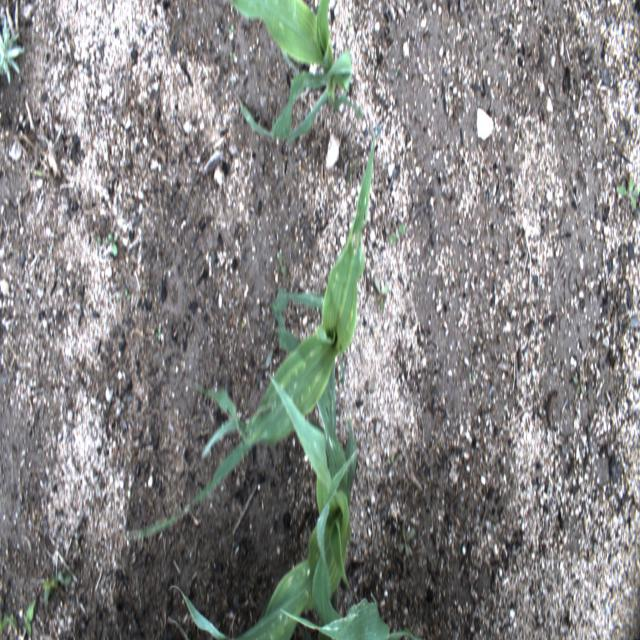crop: (129, 125, 375, 541), (170, 294, 357, 640), (228, 0, 364, 141), (279, 592, 420, 639)
weed: (0, 16, 25, 86), (616, 176, 640, 215), (22, 597, 37, 637), (398, 523, 415, 557), (44, 574, 58, 610), (376, 274, 388, 312), (388, 222, 406, 246), (103, 235, 120, 258), (1, 610, 18, 631), (572, 370, 584, 396), (57, 568, 73, 585), (277, 252, 285, 274), (393, 64, 400, 78), (156, 322, 161, 341)
